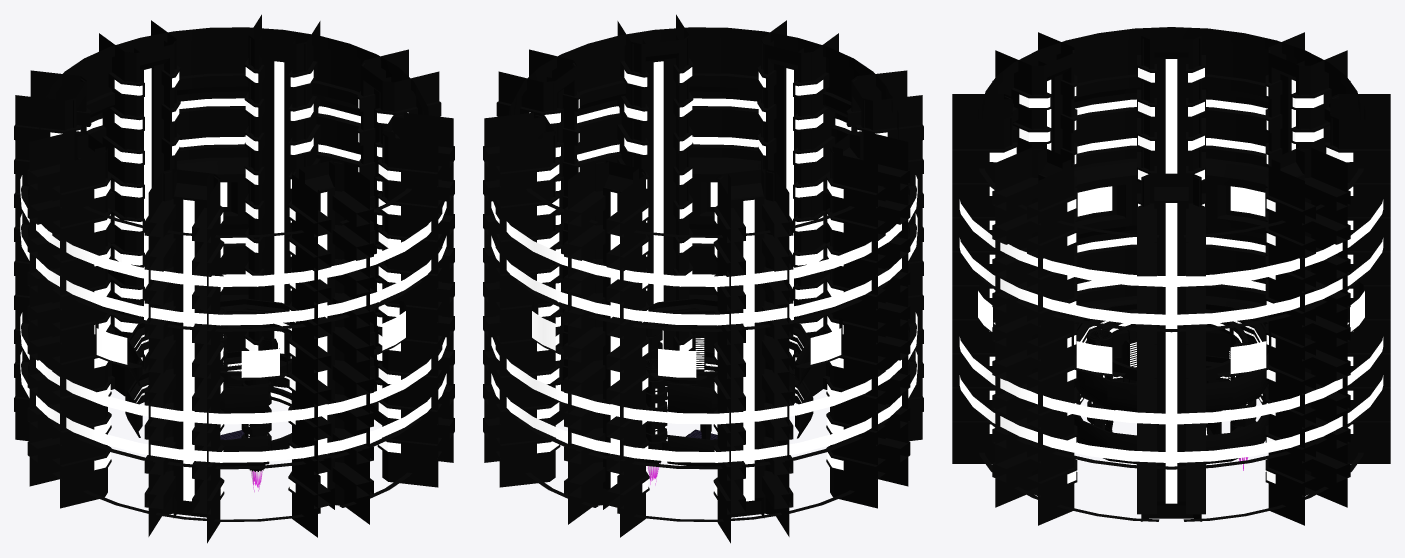
Rendered from bolt-base-t3.glb.
The picture shows the model from 3 angles, left to right: view 1: azimuth 30°, elevation 25°; view 2: azimuth 150°, elevation 25°; view 3: azimuth 270°, elevation 25°; orthographic projection.
Visible parts, largest first — view 1: tunnelPieceMeshLOD0, engineOuterMeshLOD0, engineInnerMeshLOD0; view 2: tunnelPieceMeshLOD0, engineOuterMeshLOD0, engineInnerMeshLOD0; view 3: tunnelPieceMeshLOD0, engineOuterMeshLOD0, engineInnerMeshLOD0.
Boxes of the visible parts, x1,y1,x2,y2 form: tunnelPieceMeshLOD0: (14,14,454,543); engineOuterMeshLOD0: (125,298,291,466); engineInnerMeshLOD0: (220,307,291,471); tunnelPieceMeshLOD0: (483,14,923,543); engineOuterMeshLOD0: (648,298,813,466); engineInnerMeshLOD0: (646,309,794,463); tunnelPieceMeshLOD0: (952,27,1390,525); engineOuterMeshLOD0: (1074,303,1268,464); engineInnerMeshLOD0: (1087,313,1256,435).
Size of what is drawn, in the model's own units: 594 by 554 by 594.
8 materials, 2 textured.
